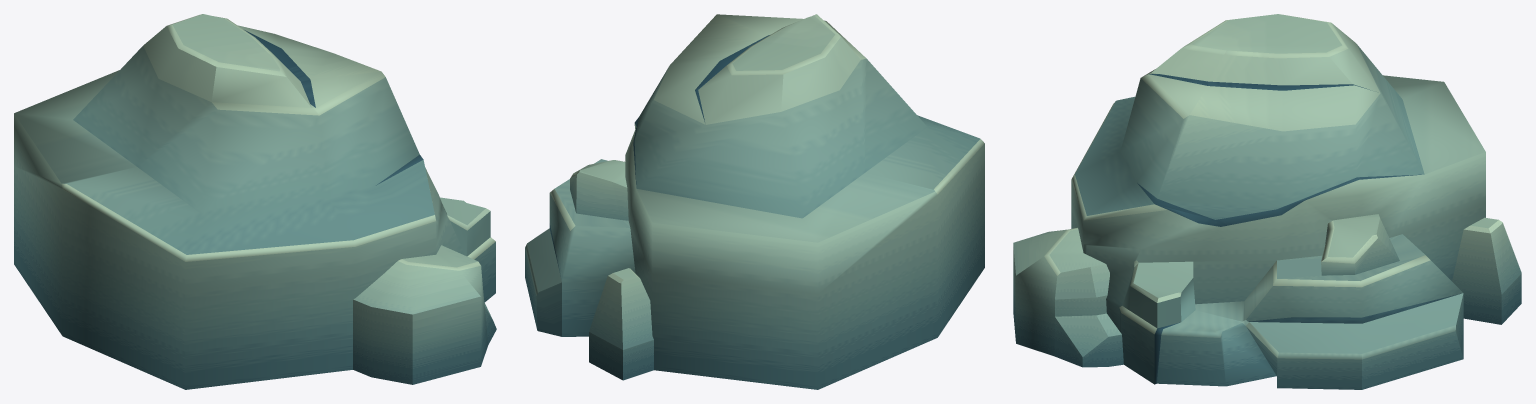
File: Rock_01.fbx
3 views of the same model, side by side, from view 1: azimuth 30°, elevation 25°; view 2: azimuth 150°, elevation 25°; view 3: azimuth 270°, elevation 25° (orthographic). The views are drawn at different scales.
Visible parts, largest first — view 1: pCube4; view 2: pCube4; view 3: pCube4.
Boxes of the visible parts, <box> form: pCube4: <box>14,14,496,389</box>; pCube4: <box>525,14,984,389</box>; pCube4: <box>1013,14,1521,389</box>.
Bounding box in the file's own units: 1.71 × 1.13 × 2.05.
1 material, 1 textured.
